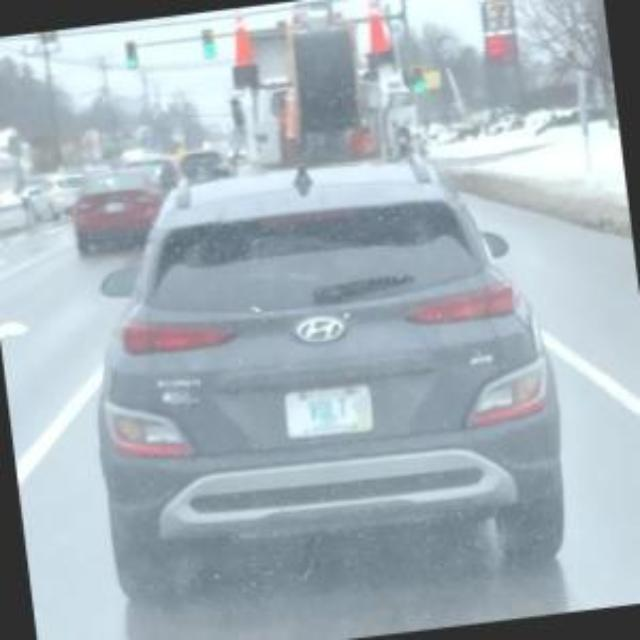License Plate: (281, 385, 375, 439)
